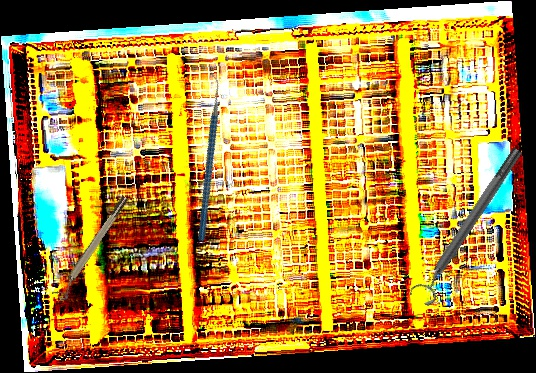Chopper: (141, 67, 272, 243)
Fixation Ring: (406, 142, 532, 309), (51, 194, 135, 303)
